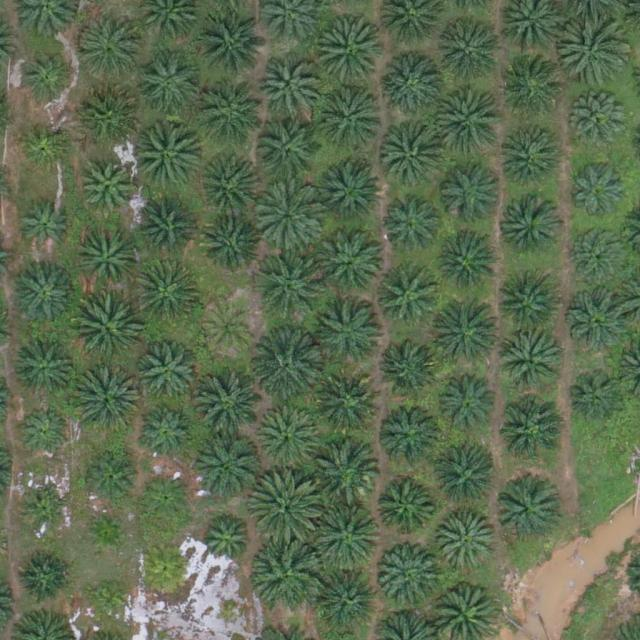Healthy: (310, 436, 381, 507), (252, 253, 323, 324), (78, 11, 148, 82), (128, 119, 198, 190), (196, 11, 266, 82), (253, 181, 323, 252), (439, 16, 509, 87), (559, 16, 629, 87), (312, 500, 382, 571), (251, 470, 321, 541), (254, 539, 325, 609), (432, 297, 502, 368), (252, 332, 323, 402), (71, 365, 142, 435), (191, 431, 261, 502), (316, 83, 386, 153), (315, 18, 385, 88), (435, 85, 505, 155), (133, 259, 203, 329), (72, 295, 142, 365), (194, 373, 264, 443), (85, 86, 148, 149), (195, 153, 258, 216), (382, 130, 445, 193), (440, 163, 503, 226), (569, 160, 632, 223), (435, 450, 498, 513), (377, 545, 440, 608), (569, 287, 632, 350), (12, 266, 75, 329), (137, 53, 199, 116), (131, 196, 193, 259), (202, 90, 264, 153), (259, 54, 321, 117), (254, 121, 317, 183), (320, 158, 382, 221), (383, 52, 445, 115), (499, 59, 561, 122), (501, 131, 563, 194), (502, 199, 564, 262), (495, 481, 557, 544), (437, 512, 499, 575), (373, 478, 435, 541), (319, 569, 382, 631), (500, 399, 563, 461), (497, 330, 559, 393), (497, 275, 559, 338), (437, 233, 499, 296), (435, 373, 498, 435), (380, 401, 443, 463), (375, 264, 438, 326), (315, 375, 377, 438), (258, 408, 320, 471), (136, 341, 198, 404), (76, 228, 138, 291), (14, 336, 76, 399), (379, 336, 441, 398), (320, 232, 382, 294), (320, 305, 382, 367), (196, 213, 258, 275), (573, 227, 628, 283), (19, 118, 74, 173), (19, 48, 74, 103), (79, 161, 134, 216), (384, 198, 439, 253), (573, 99, 628, 154), (139, 471, 194, 526), (198, 513, 253, 568), (17, 407, 72, 462), (140, 405, 194, 461), (16, 201, 70, 256), (18, 550, 72, 605), (570, 369, 624, 424), (83, 452, 137, 507)
Small: (83, 509, 130, 557), (24, 491, 71, 538), (86, 577, 133, 624)
Yellow: (139, 541, 194, 597), (202, 303, 257, 358)
